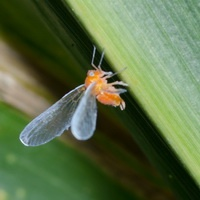insect: (19, 46, 127, 145)
